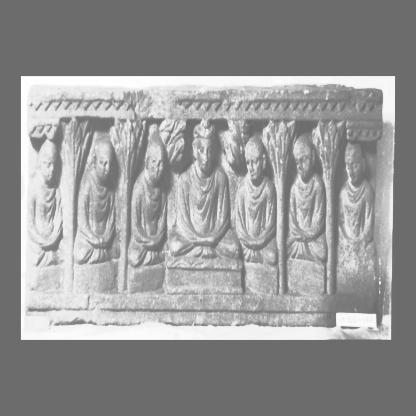buddha-sitting: (168, 117, 238, 282)
